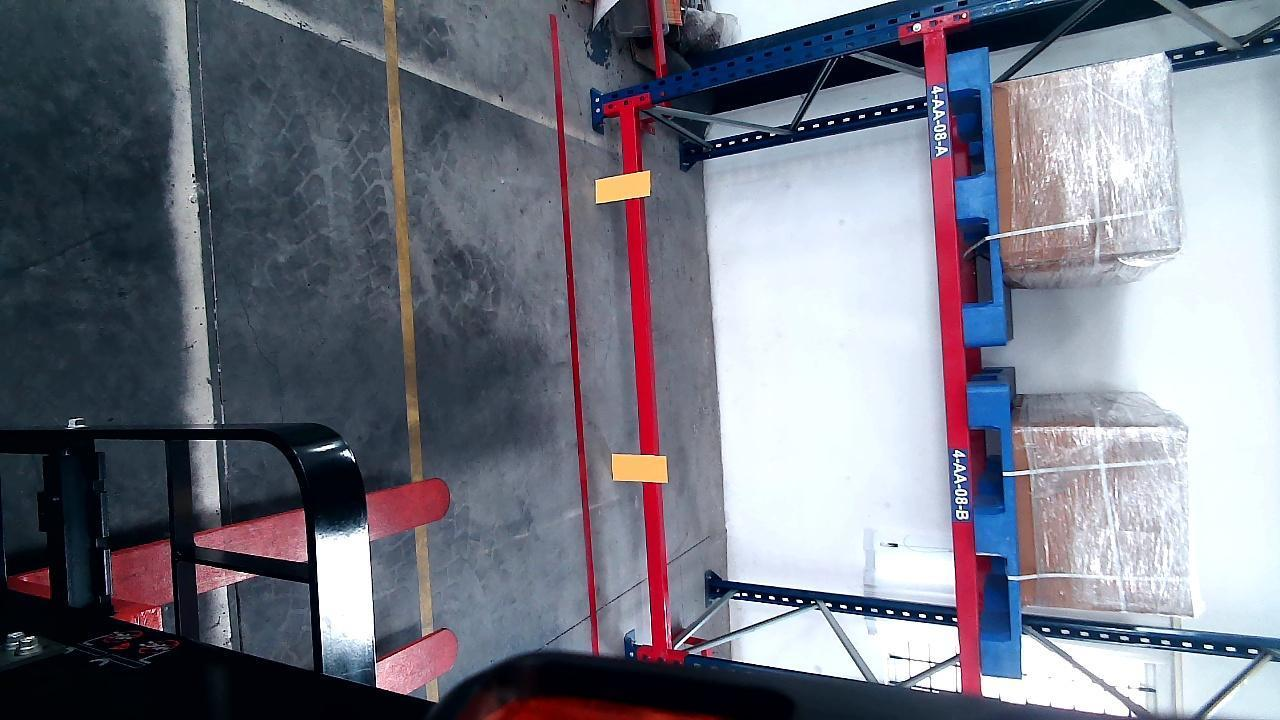h_rack: (924, 33, 982, 661), (623, 98, 664, 648)
orange_strip: (595, 171, 649, 202), (611, 453, 666, 482)
red_line: (548, 12, 600, 654)
small_pallet: (948, 48, 1003, 340), (968, 386, 1022, 667)
yellow_line: (385, 0, 440, 705)
